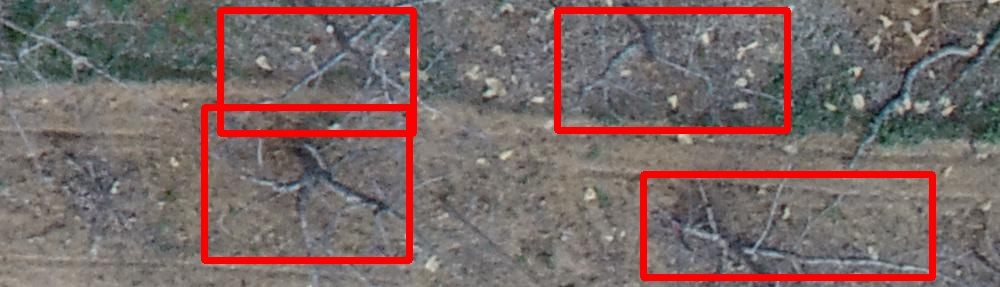apple: (204, 107, 409, 260), (643, 174, 932, 277), (557, 10, 787, 130), (220, 10, 413, 133)
